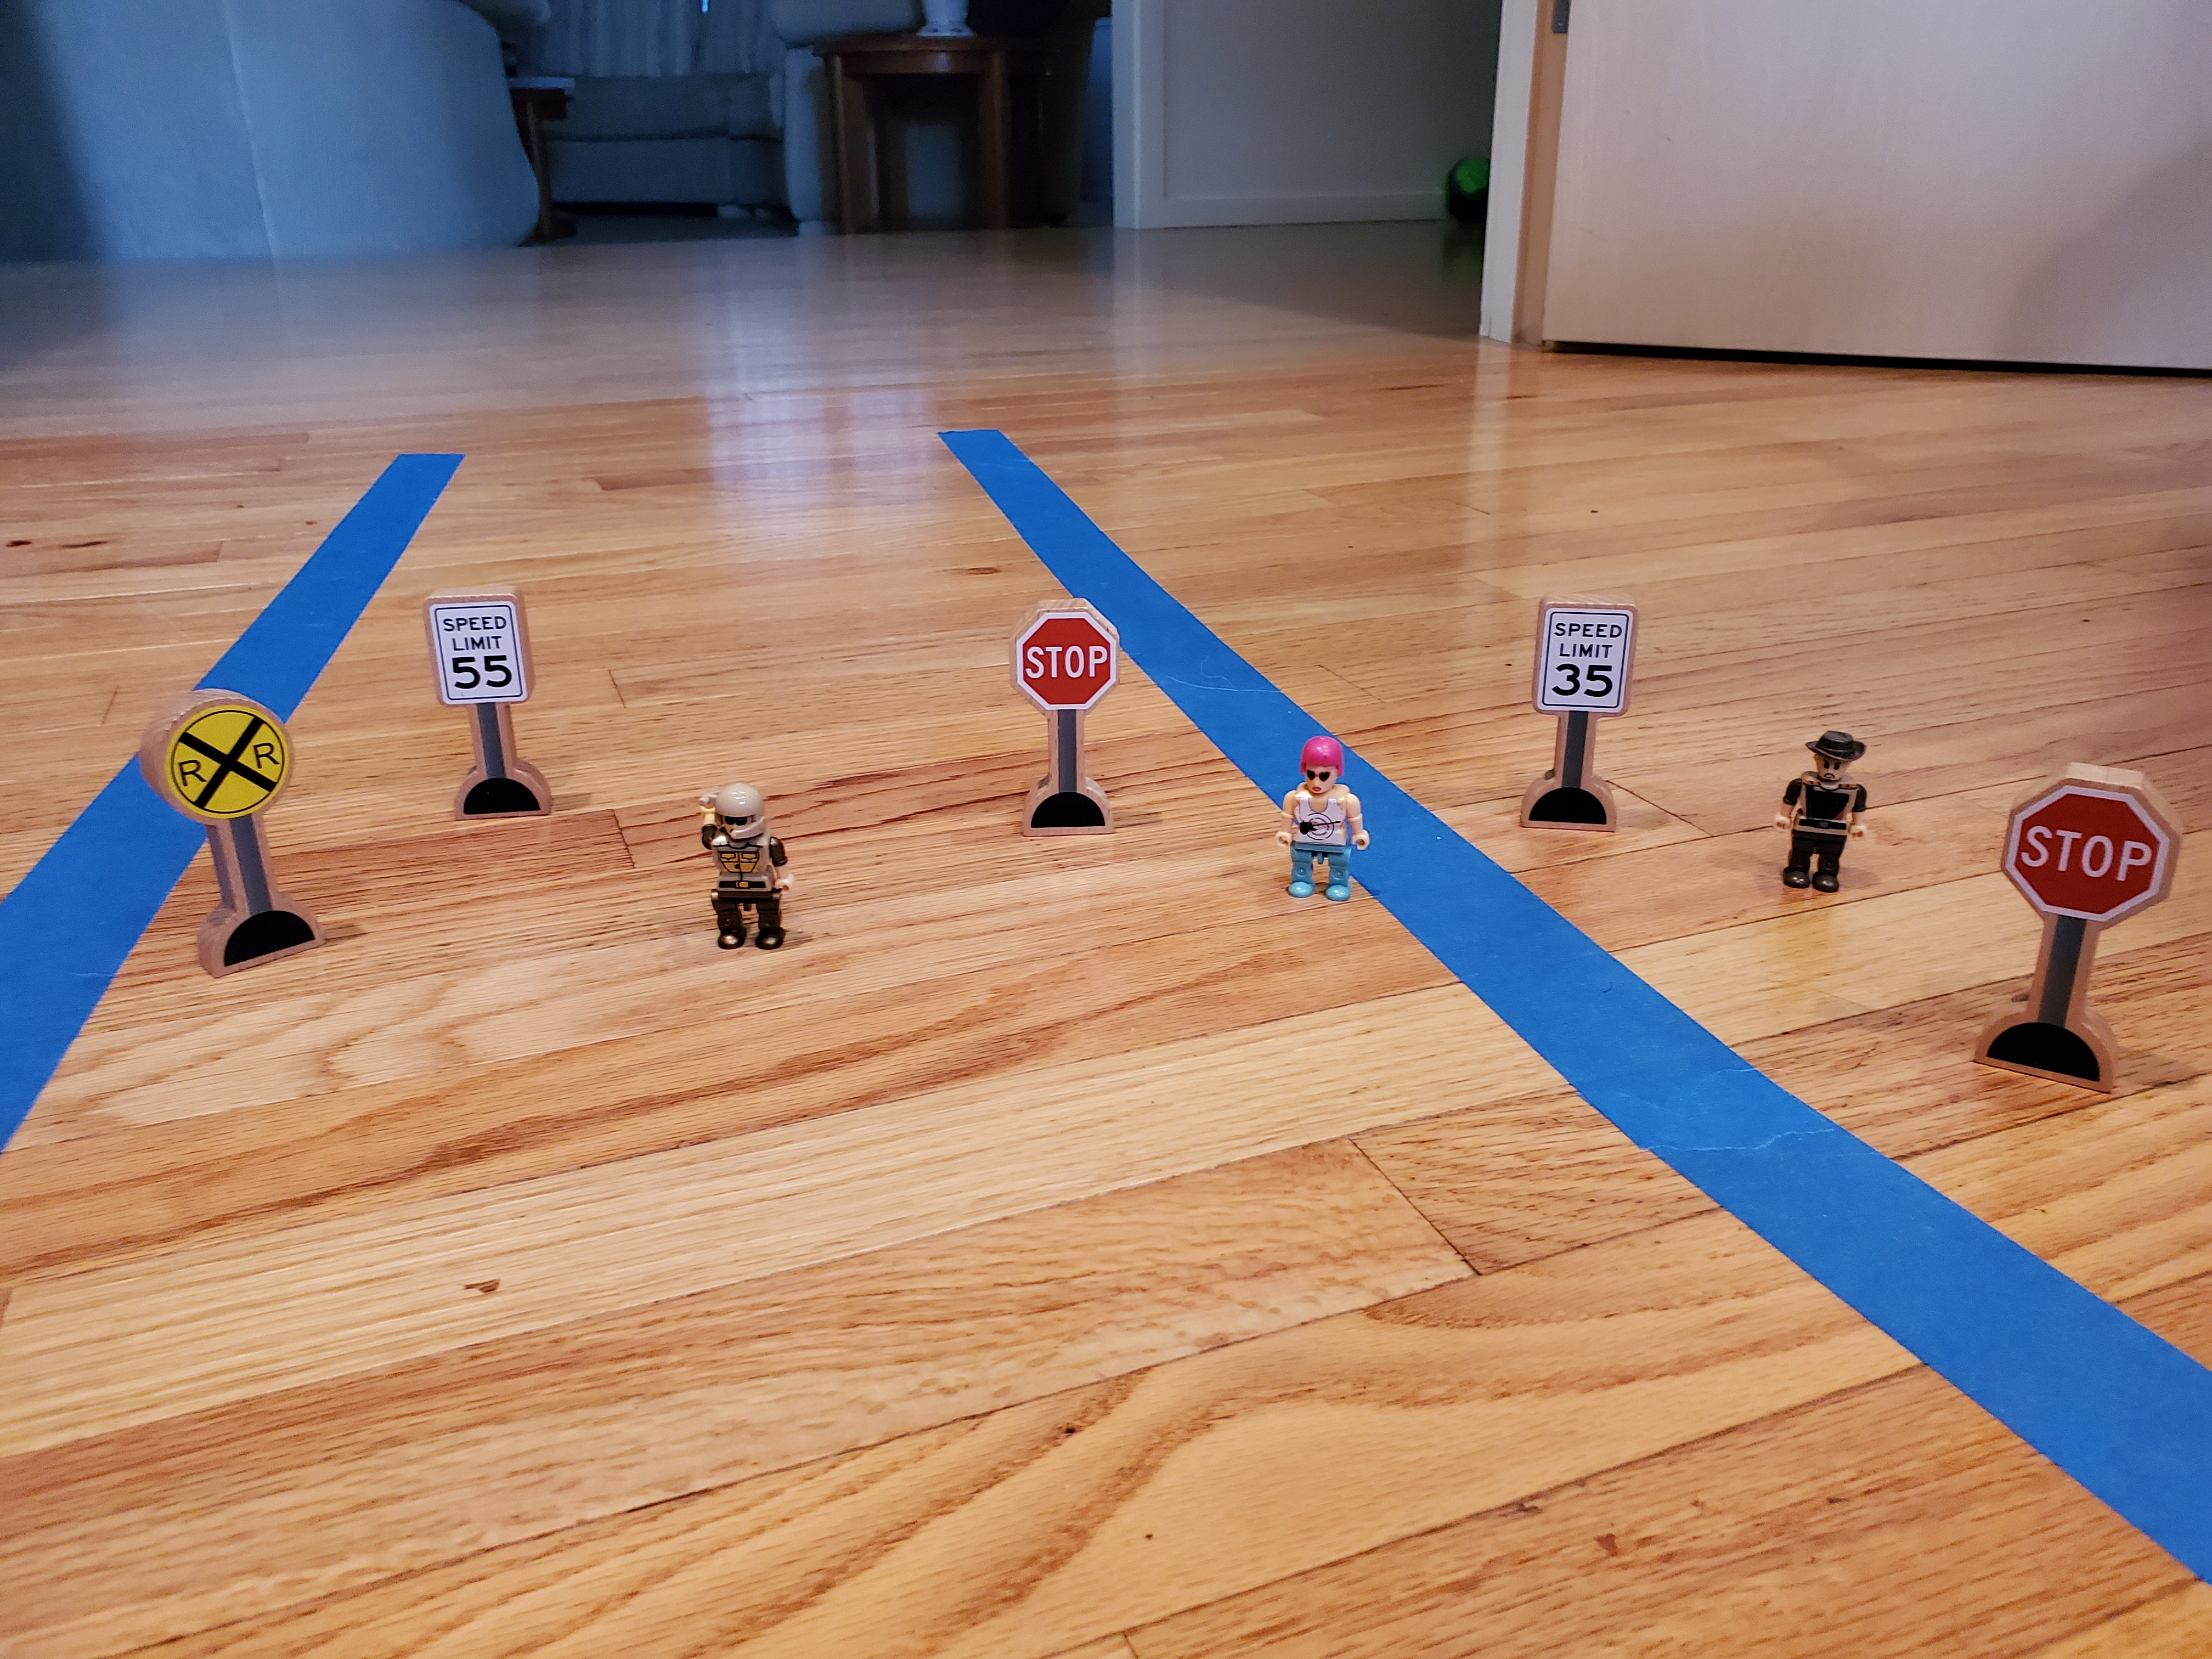Railroad Crossing: (146, 695, 314, 822)
Speed Limit 35: (1527, 585, 1646, 721)
Speed Limit 55: (422, 584, 541, 710)
Stop Sign: (2002, 758, 2188, 934), (1006, 591, 1131, 724)
person: (689, 777, 800, 952), (1780, 721, 1871, 893), (1278, 735, 1370, 902)
